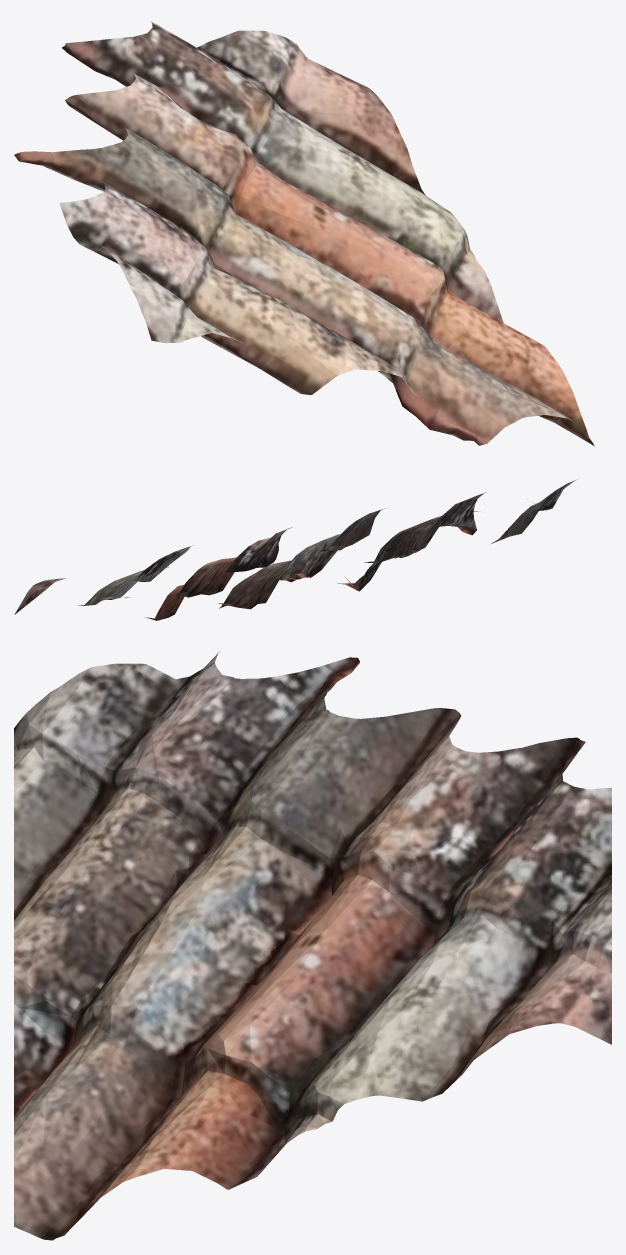
The picture shows the model from 3 angles, top to bottom: view 1: azimuth 30°, elevation 25°; view 2: azimuth 150°, elevation 25°; view 3: azimuth 270°, elevation 25°; orthographic projection. The views are drawn at different scales.
Size of the model in its own units: 0.8373 by 0.523 by 0.8373.
3 materials, 3 textured.
